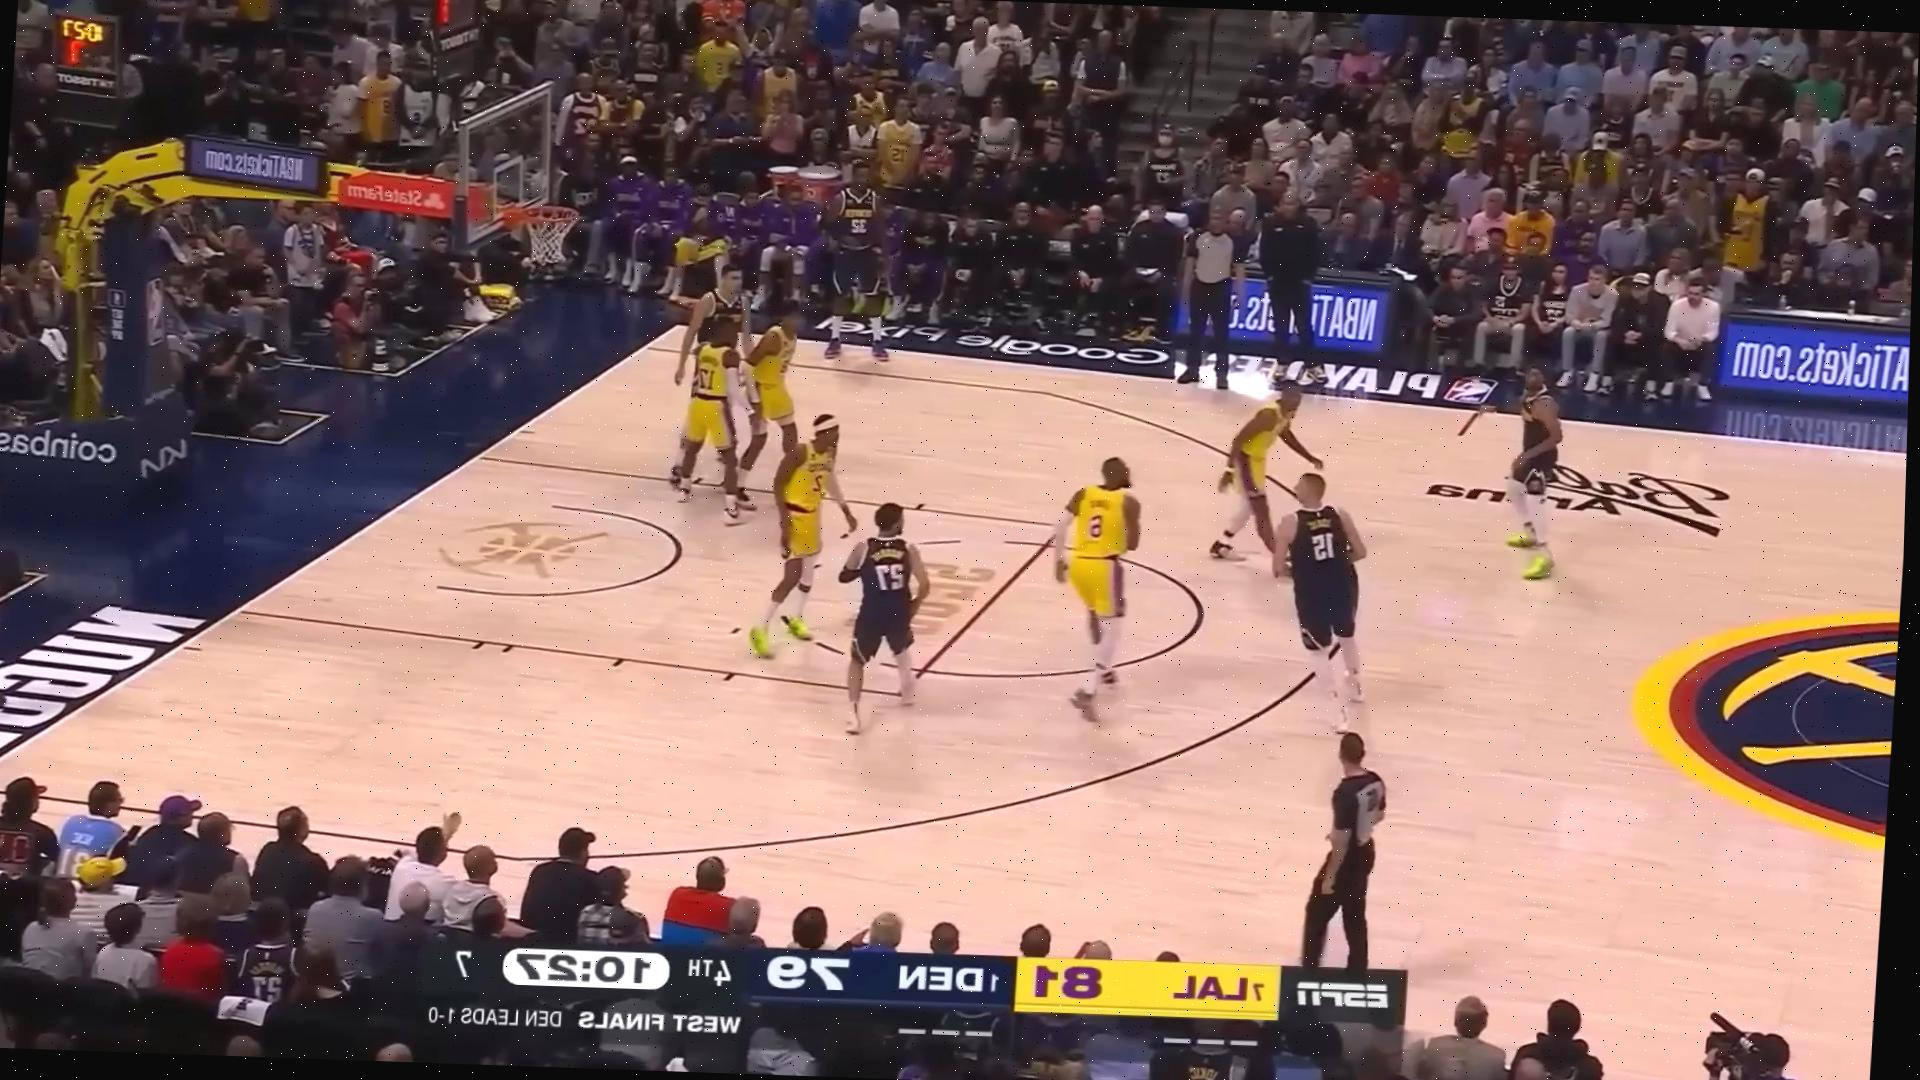no_foul: (724, 400, 940, 735)
